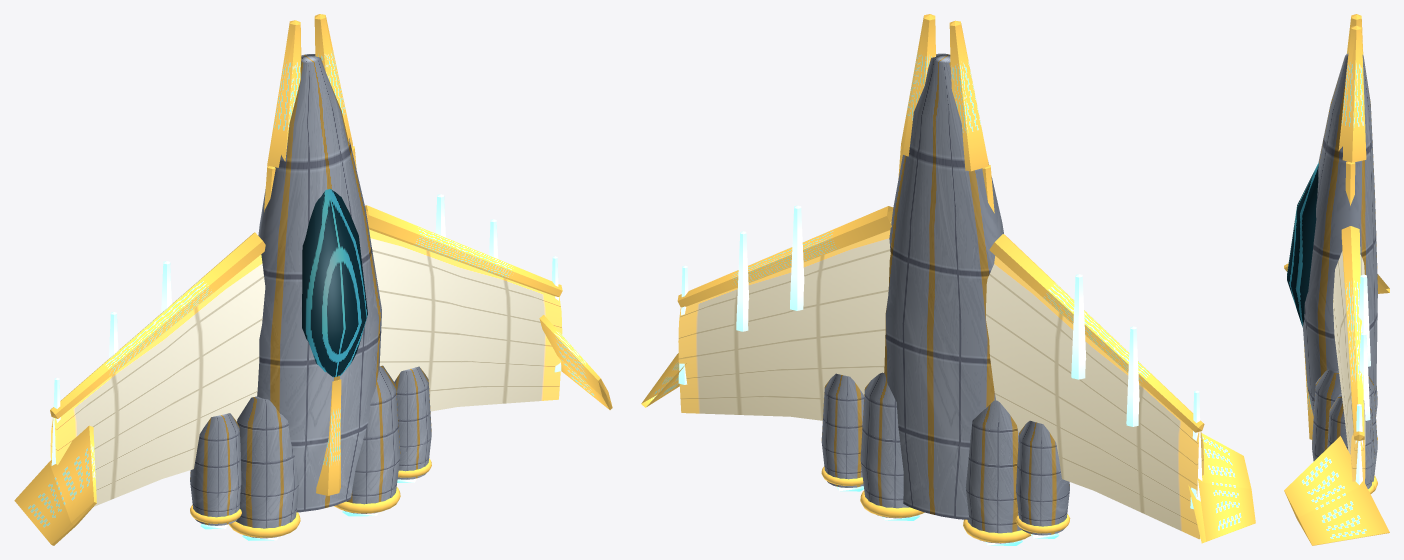
Rendered from ship_c3_star_glider.glb.
3 renders of one model, left to right at view 1: azimuth 30°, elevation 25°; view 2: azimuth 150°, elevation 25°; view 3: azimuth 270°, elevation 25°, orthographic. The views are drawn at different scales.
Visible parts, largest first — view 1: ship_c3_star_glider; view 2: ship_c3_star_glider; view 3: ship_c3_star_glider.
Boxes of the visible parts, x1,y1,x2,y2 form: ship_c3_star_glider: (14,14,612,545); ship_c3_star_glider: (641,14,1255,545); ship_c3_star_glider: (1284,14,1389,545).
Bounding box in the file's own units: 4.04 × 3.48 × 0.7259.
Materials: 5 (5 with a texture image).
